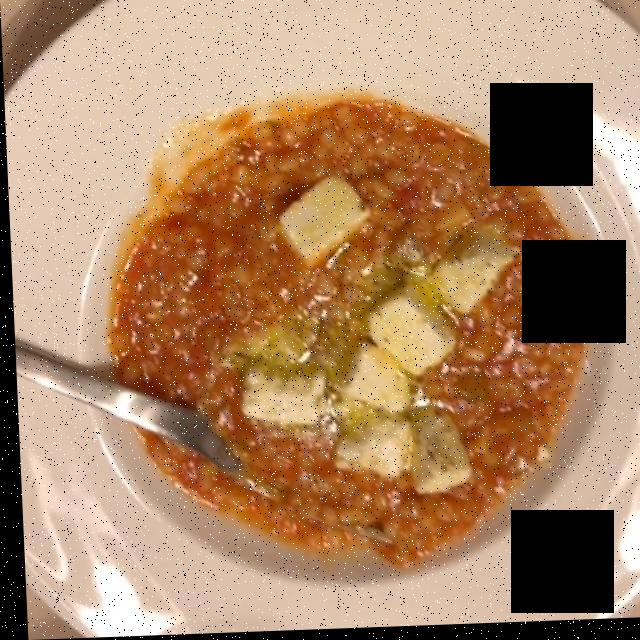feta: (237, 173, 504, 496)
tomato-sauce: (110, 113, 573, 562)
